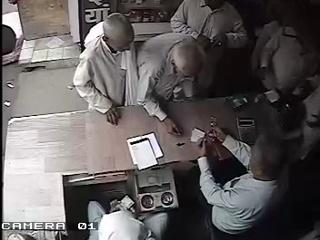Normal: (196, 123, 288, 240), (136, 32, 208, 135), (196, 0, 250, 98), (170, 1, 212, 36)
shoplifting: (73, 13, 138, 126)
